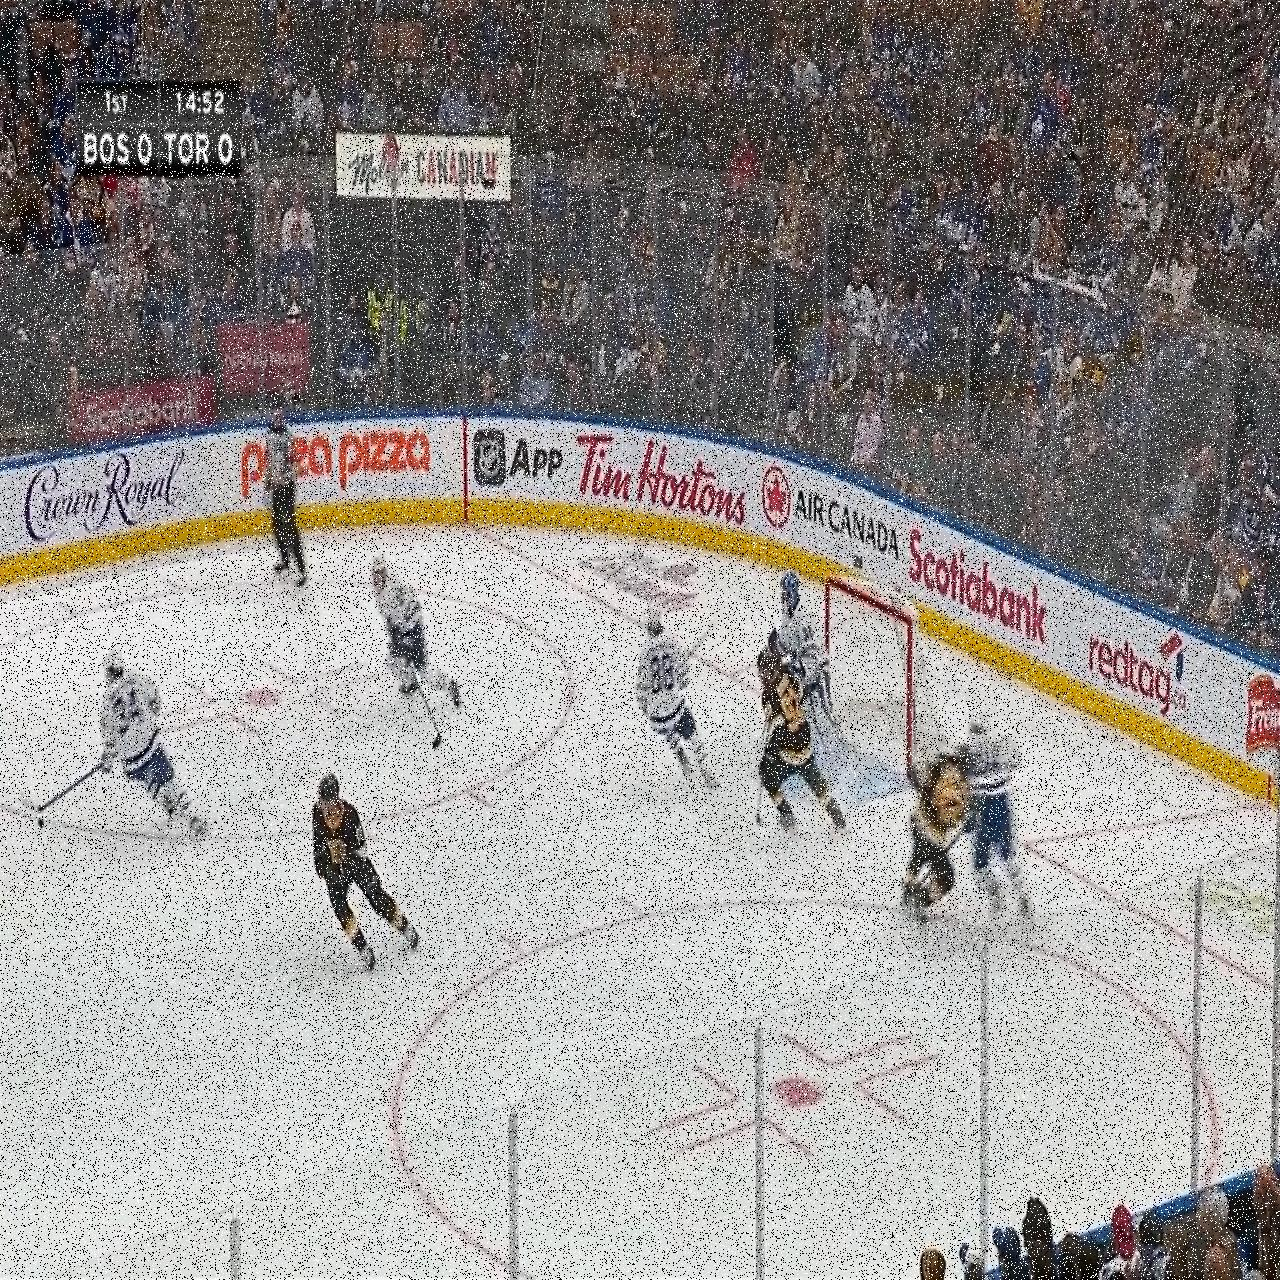Ad: (579, 416, 753, 545), (238, 413, 436, 519), (911, 508, 1049, 659), (761, 448, 905, 583), (11, 454, 197, 531), (1084, 608, 1194, 728), (470, 418, 568, 505), (1238, 661, 1280, 798)
